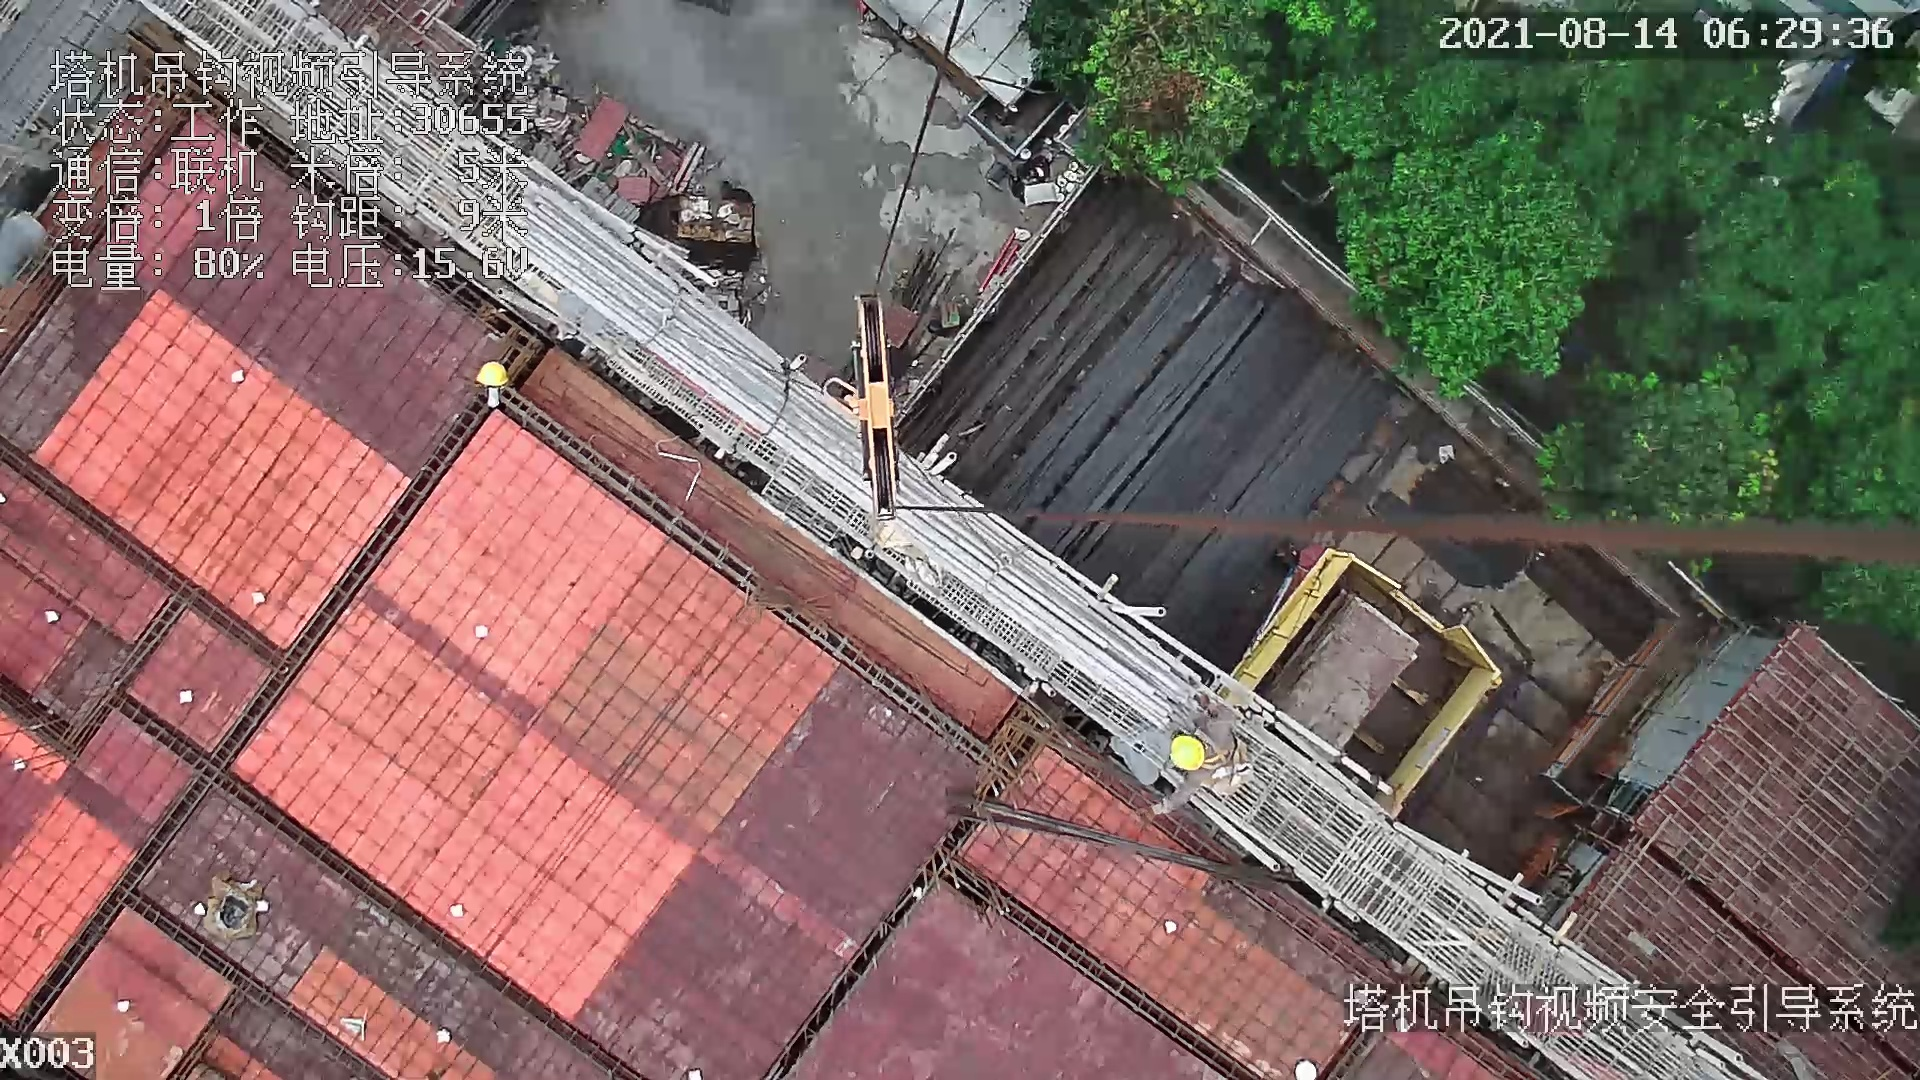helmet: (1165, 730, 1208, 772), (469, 362, 514, 386)
hook: (841, 282, 908, 524)
person: (1155, 701, 1254, 819)
rebar: (901, 190, 1394, 621)
